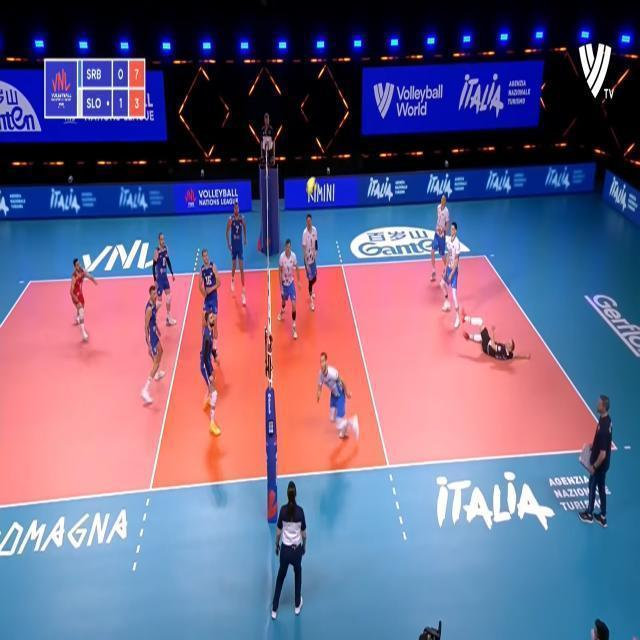volleyball: (305, 178, 319, 194)
